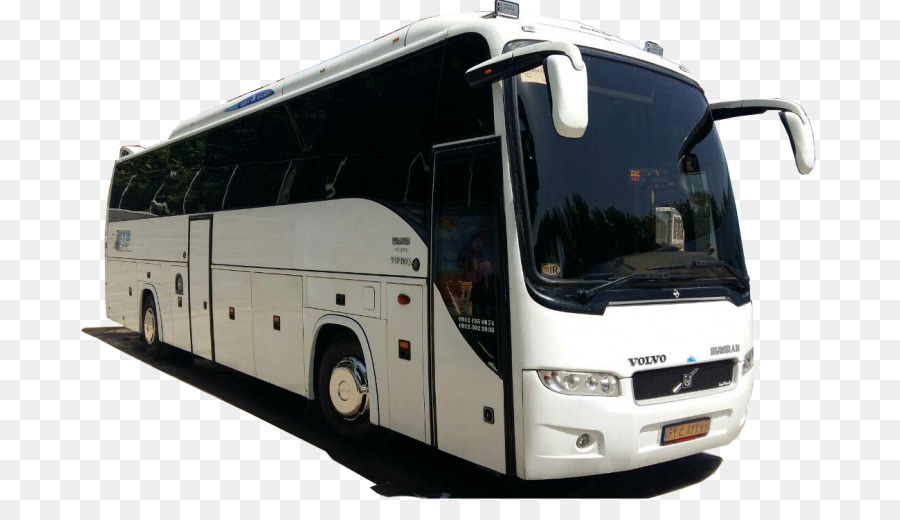bus: (101, 12, 760, 485)
